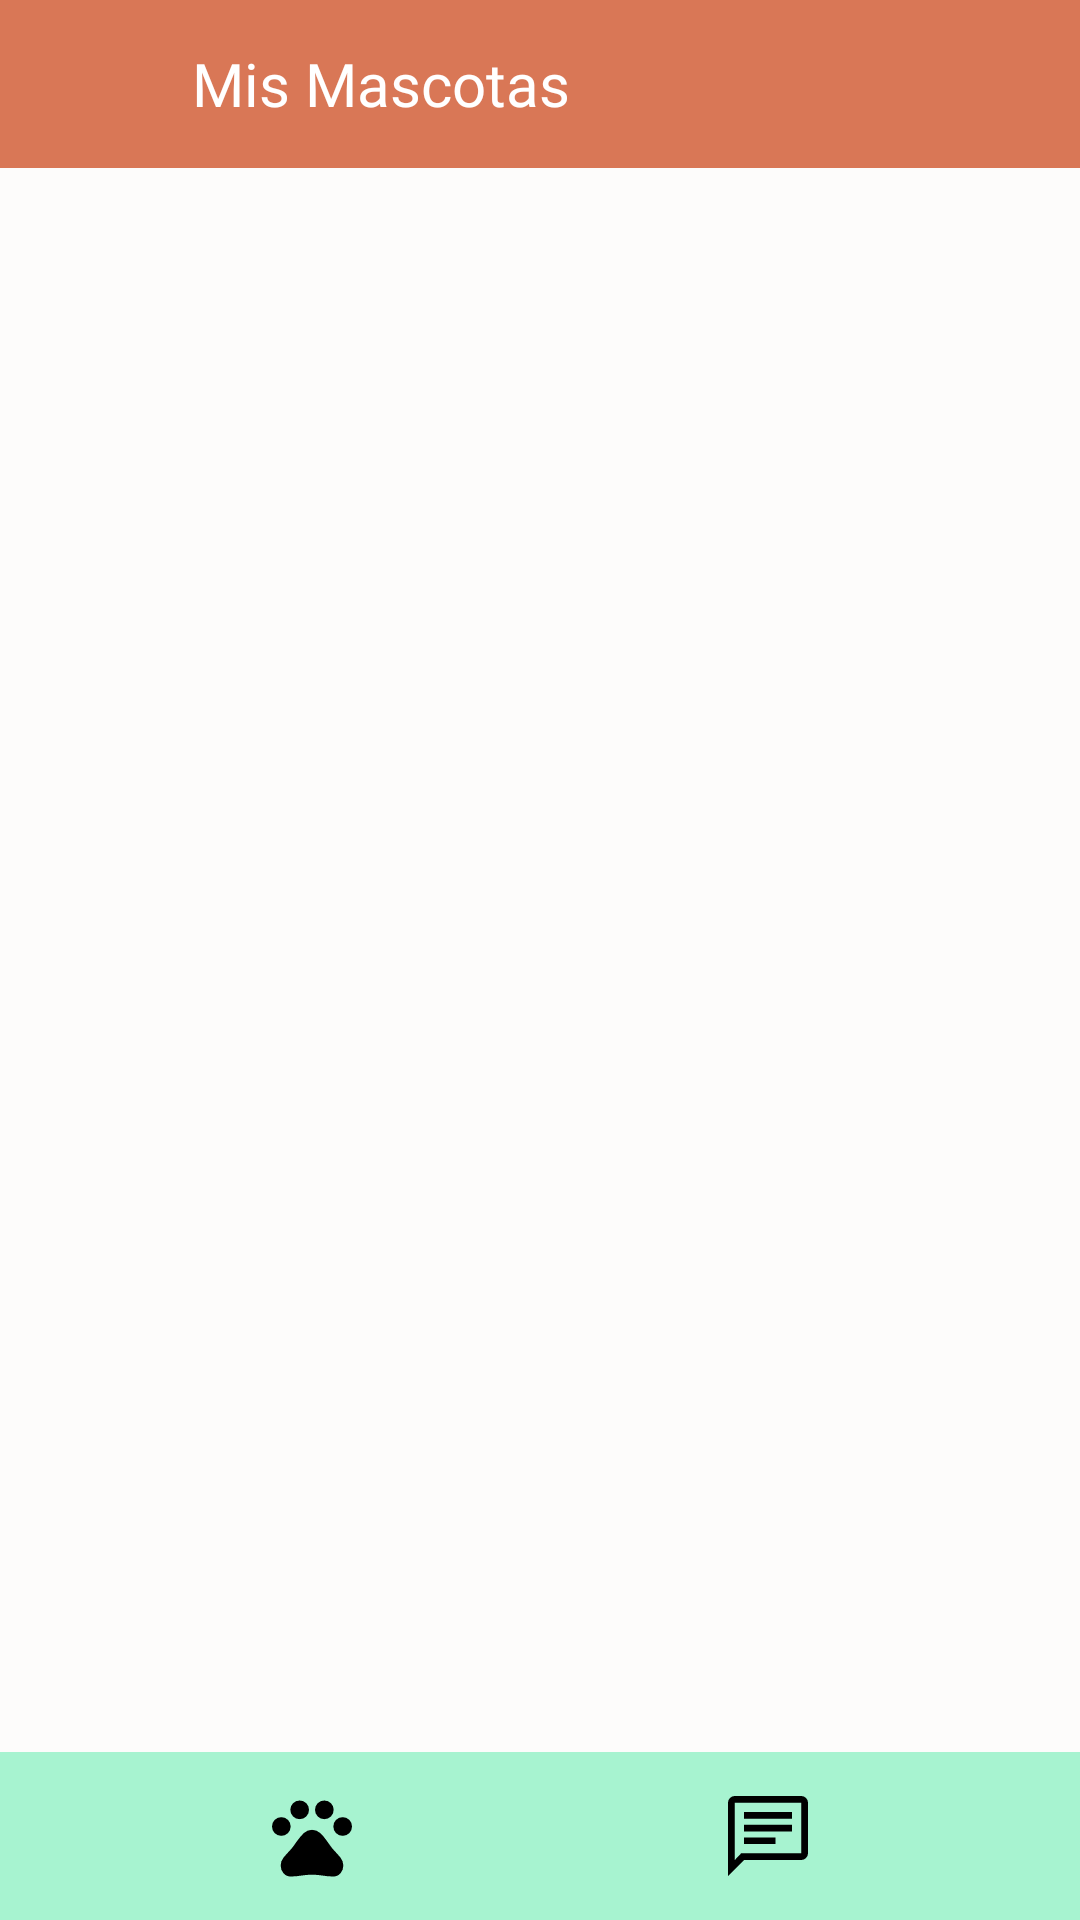

Screen size 1080w x 1920h. Icon name, then its box in pixels as (x1, y1, x2, y2):
Boton para navegar a "Mis Chats": (728, 1796, 808, 1876)
Boton para navegar a "Mis Mascotas": (272, 1800, 352, 1877)
